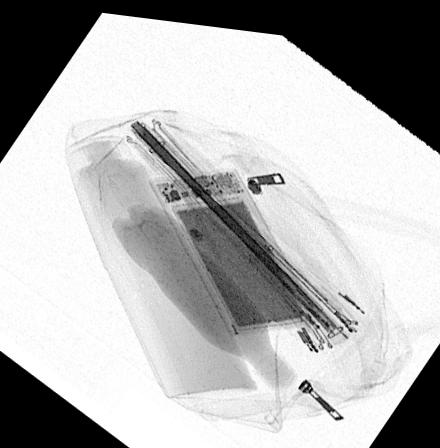Powerbank: (147, 160, 317, 329)
